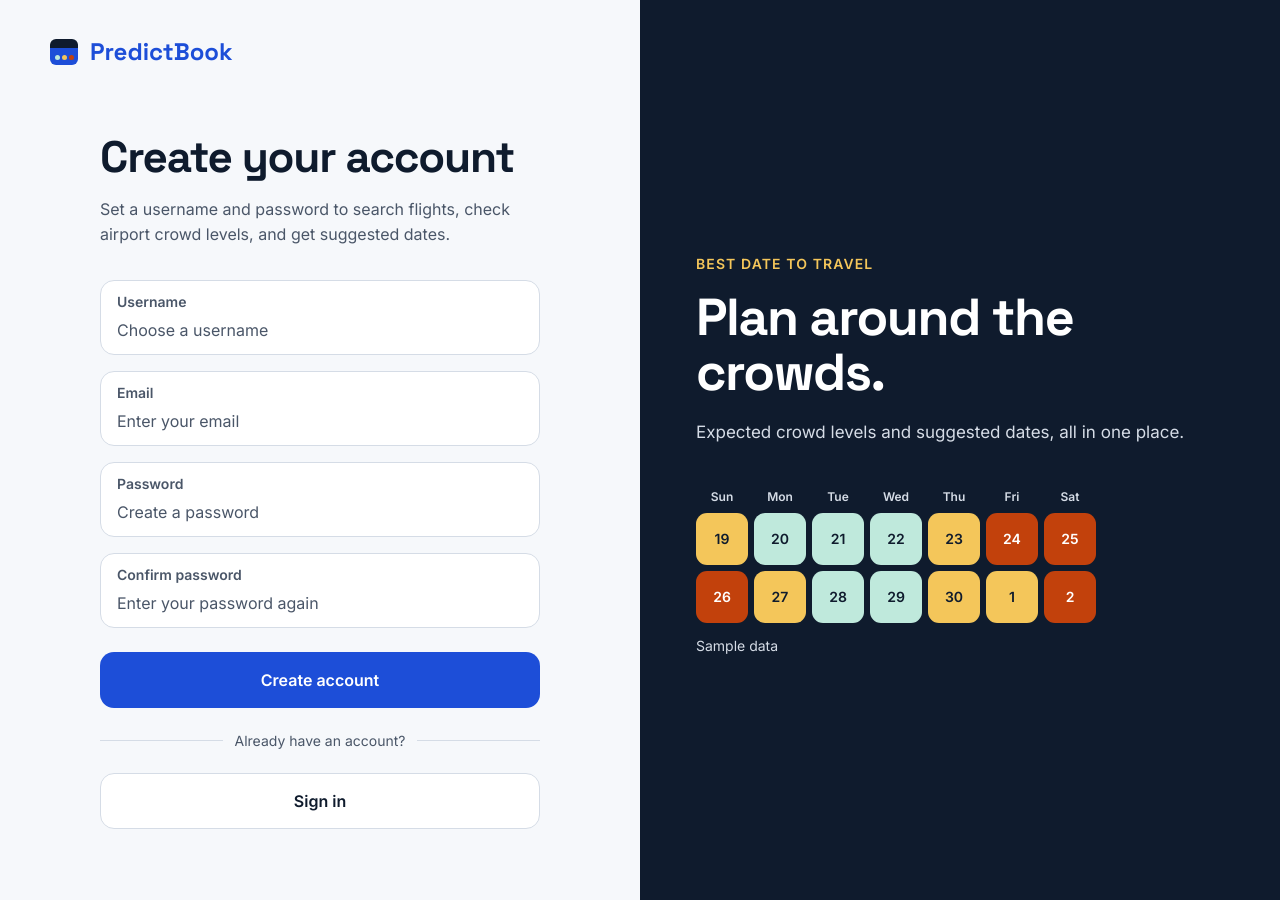
Scenario: connected account flows › dismisses signup success when the signin password is edited
In the field labelled "Username": (320, 330) [117, 318, 523, 342], type "traveler"
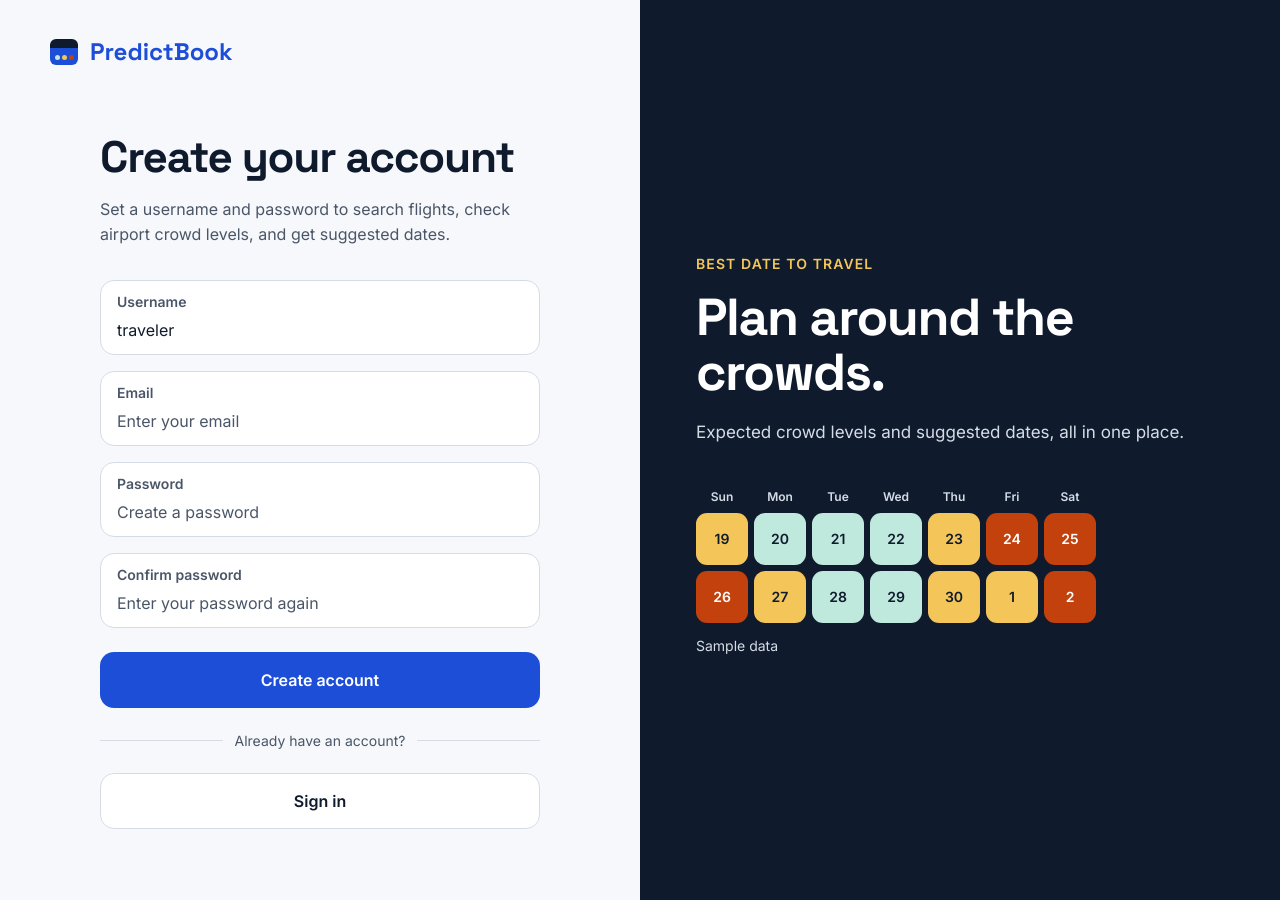
In the field labelled "Email": (320, 421) [117, 409, 523, 433], type "traveler@example.com"
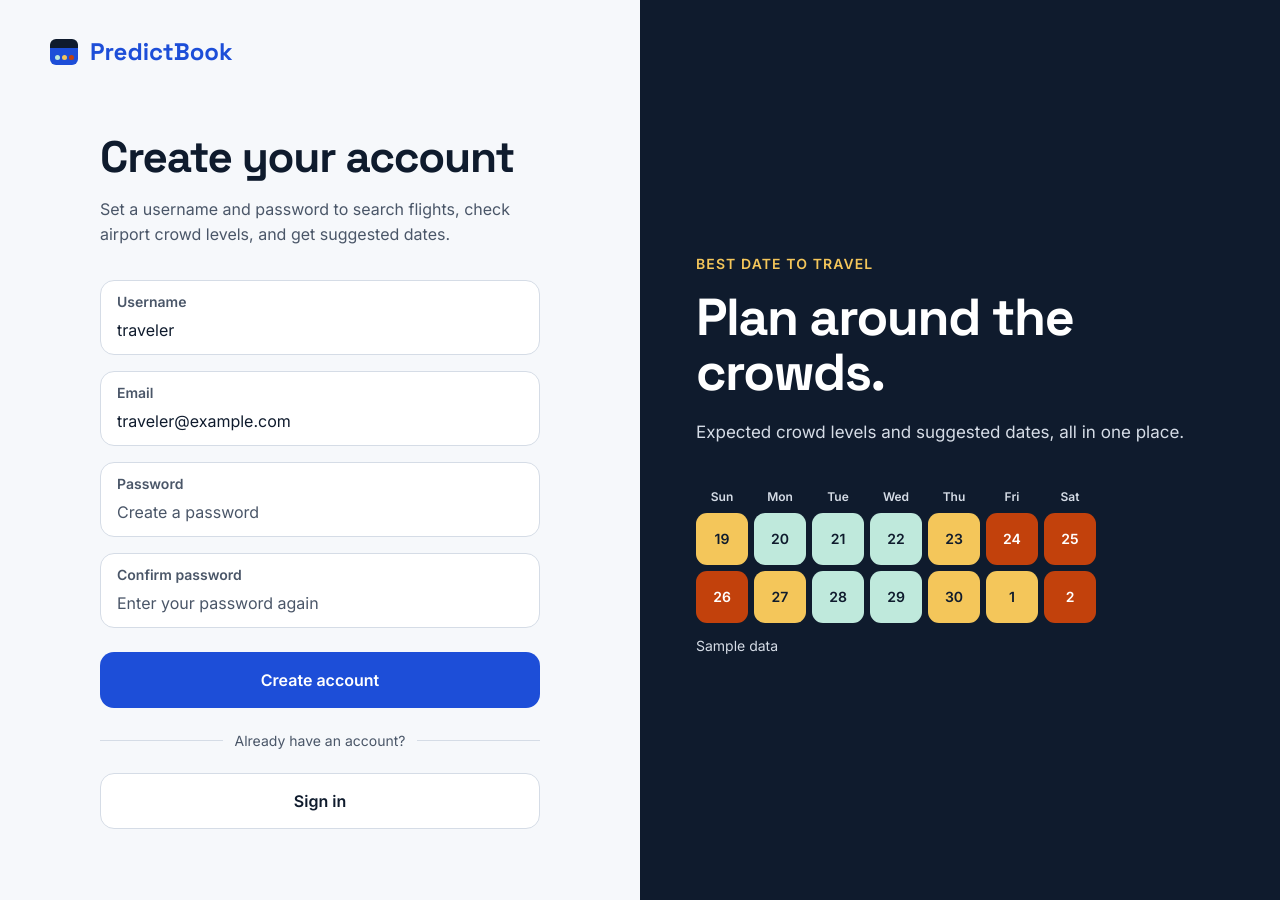
In the password field labelled "Password": (320, 512) [117, 500, 523, 524], type "Test-flow-password-927!"
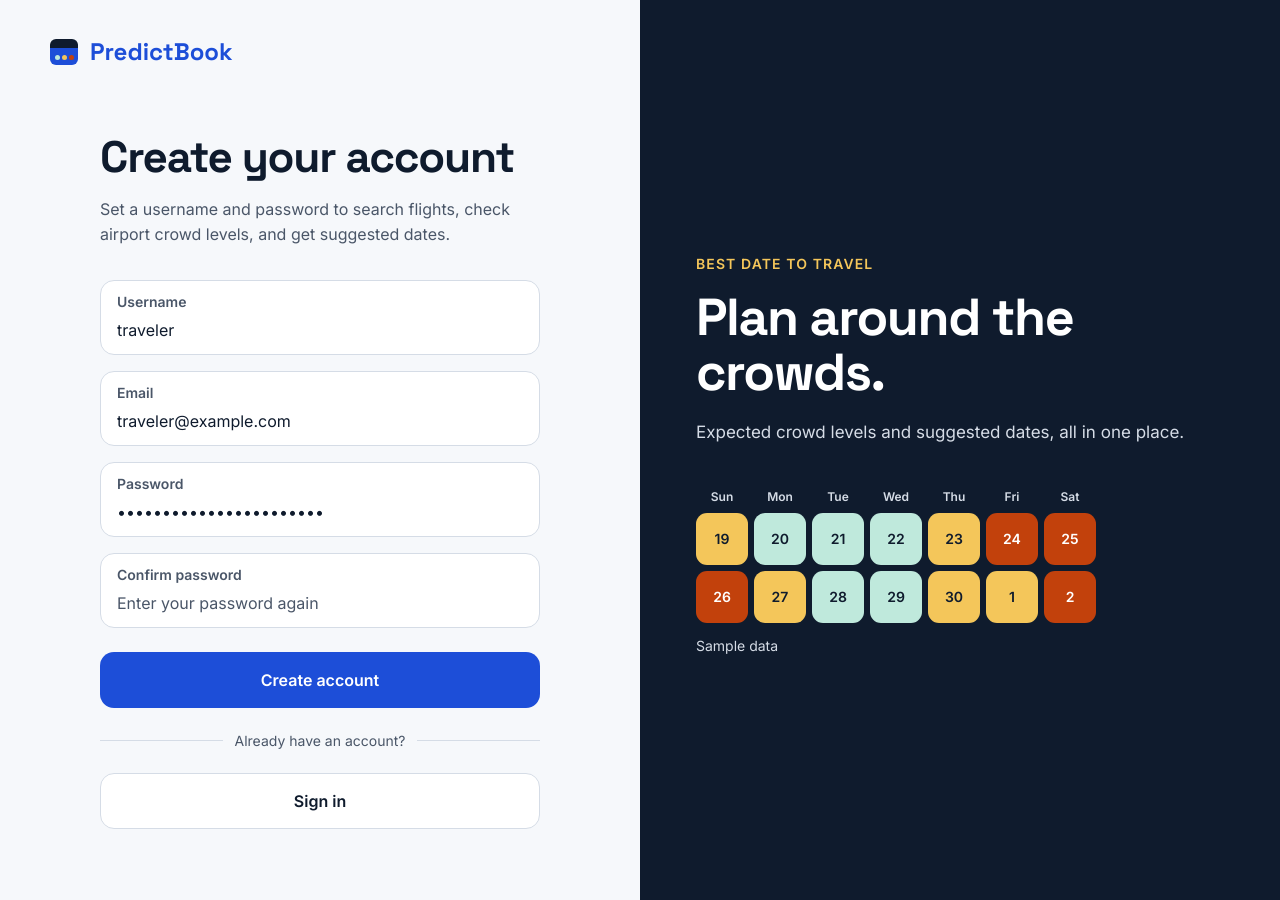
In the password field labelled "Confirm password": (320, 603) [117, 591, 523, 615], type "Test-flow-password-927!"
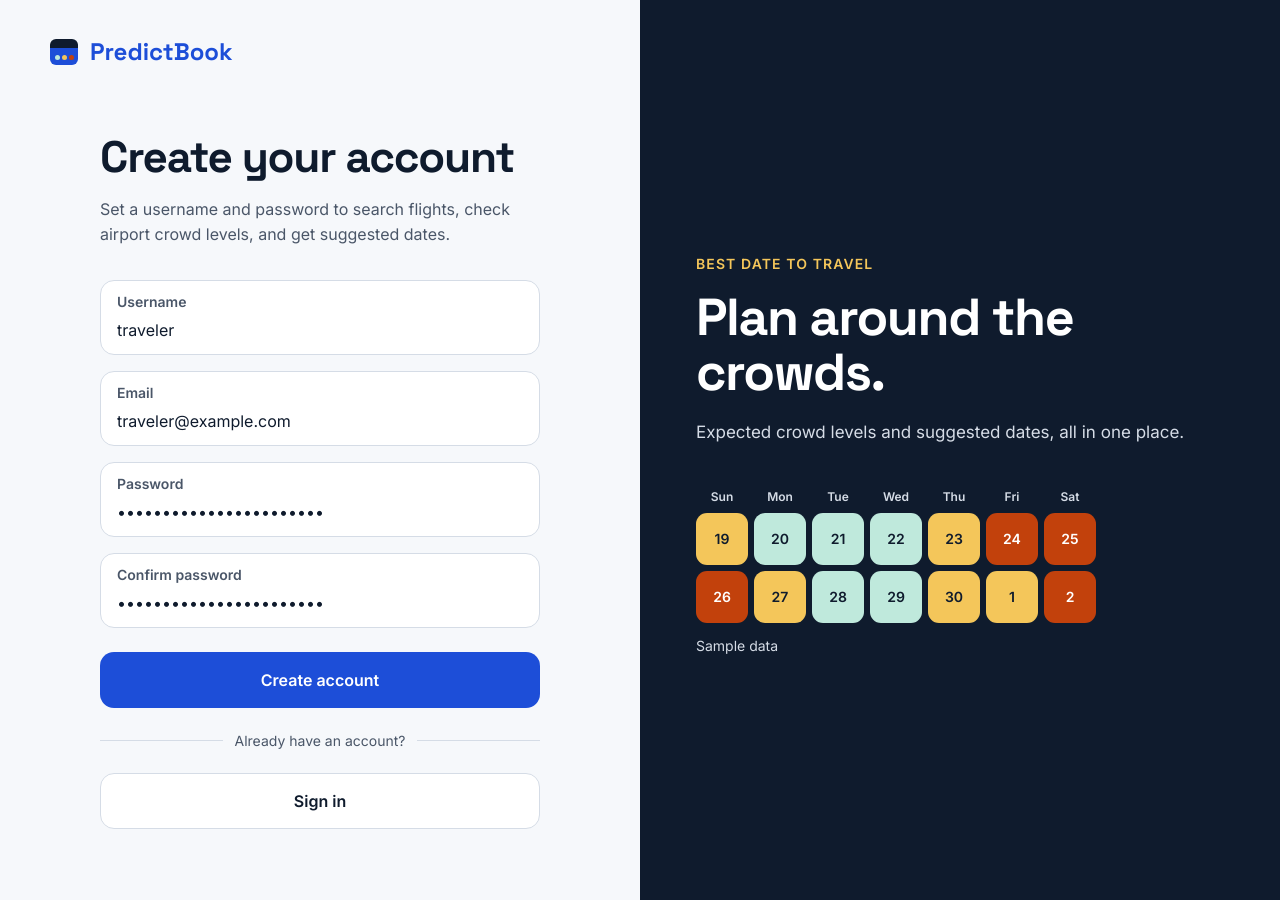
Submit the form, box [100, 280, 540, 708]
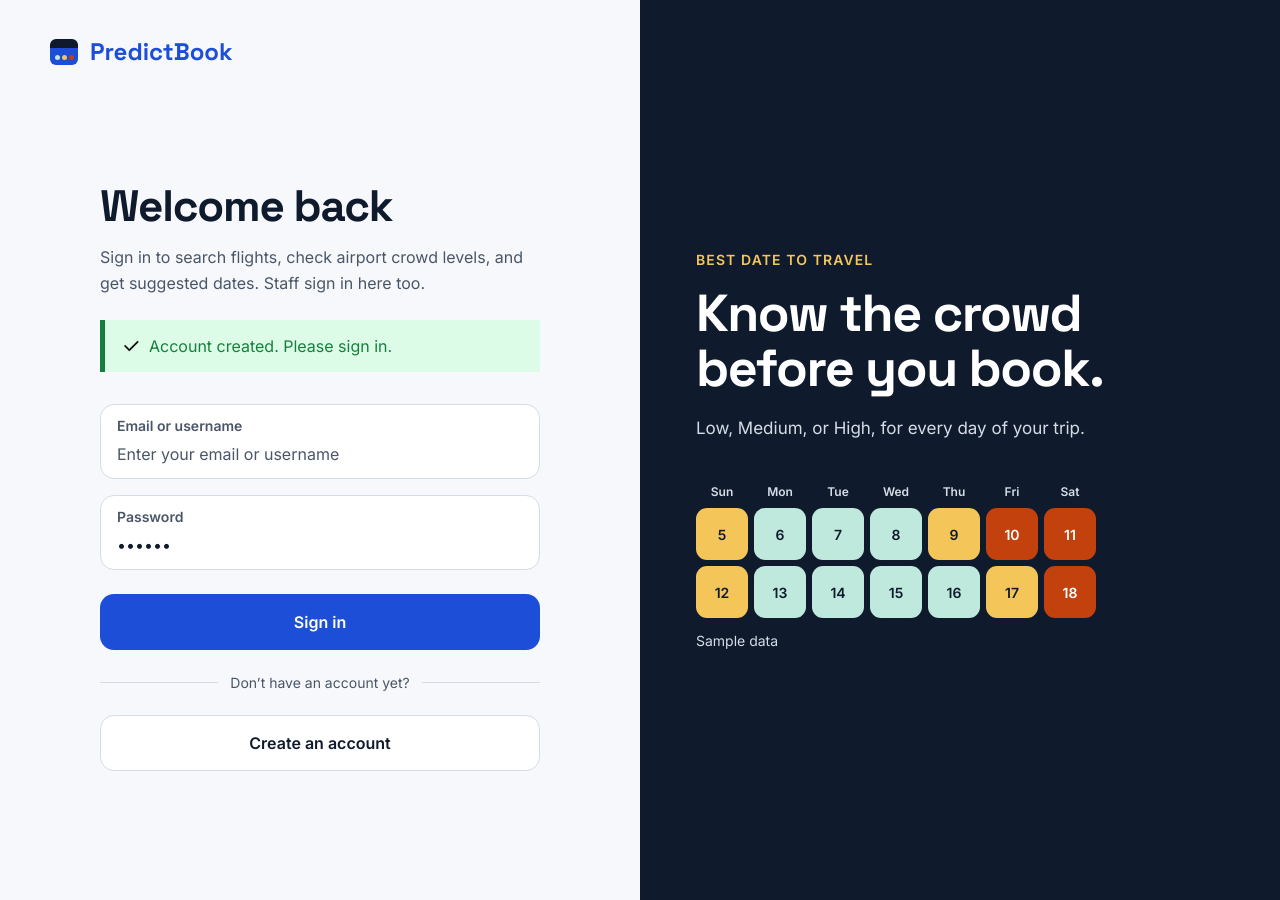
Check: the message "Account created. Please sign in." is shown, box [100, 320, 540, 372]
In the password field named "password": (320, 545) [117, 533, 523, 557], type "edited"
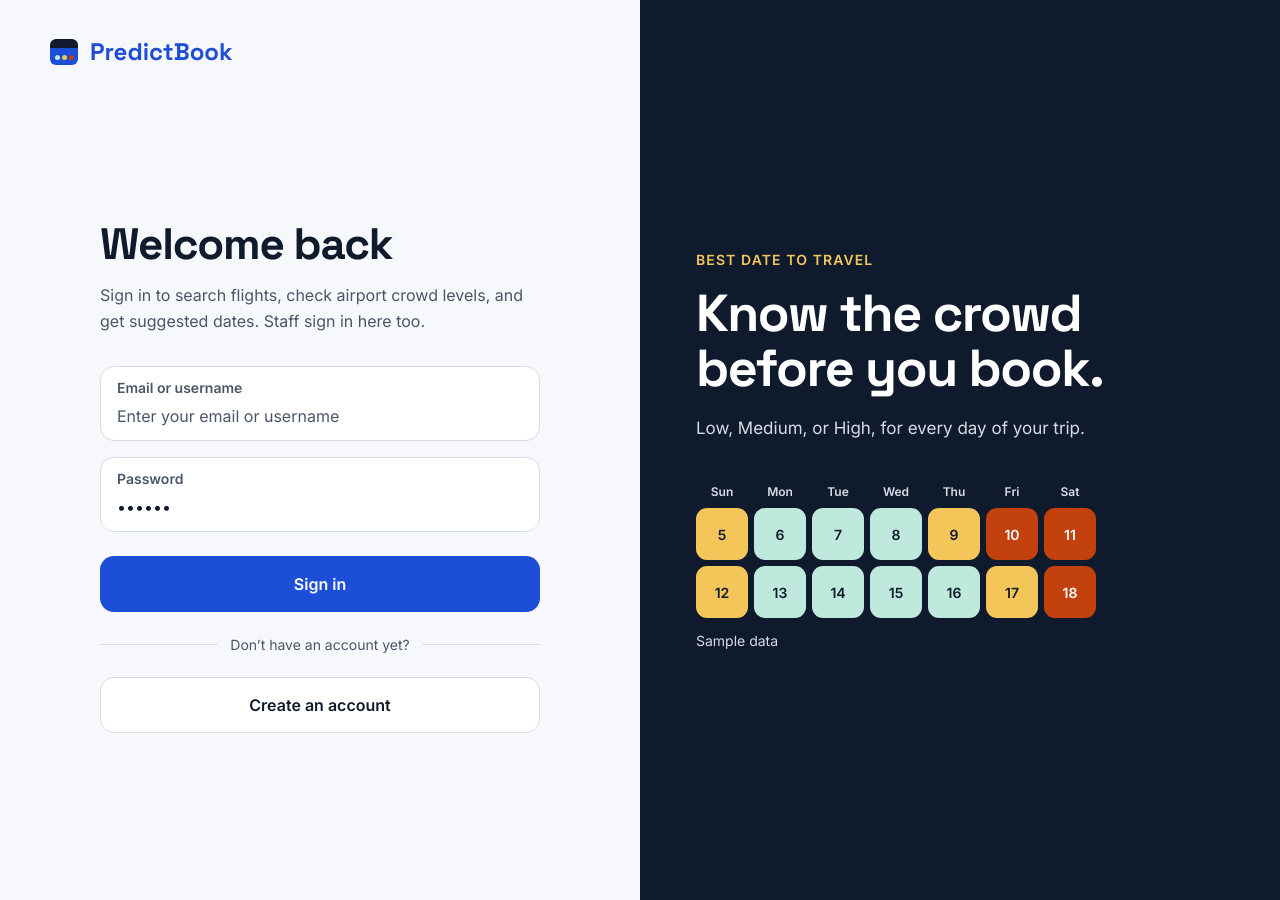
Check: the message with class "auth-success" is gone
